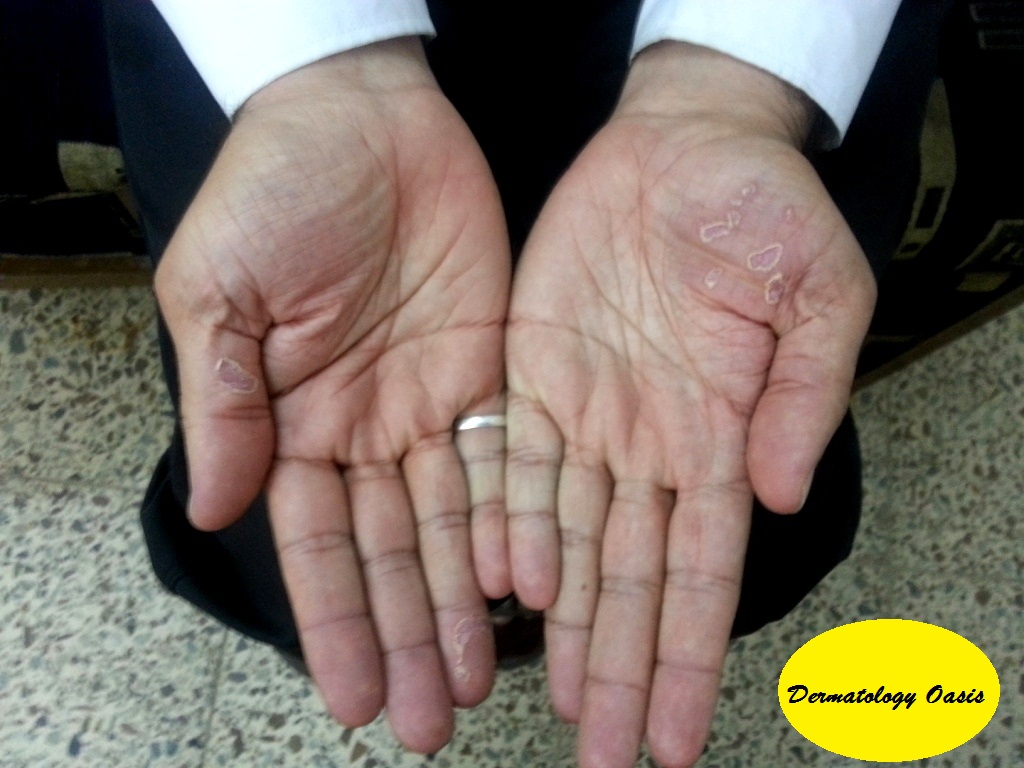Diseased: (639, 167, 846, 325)
